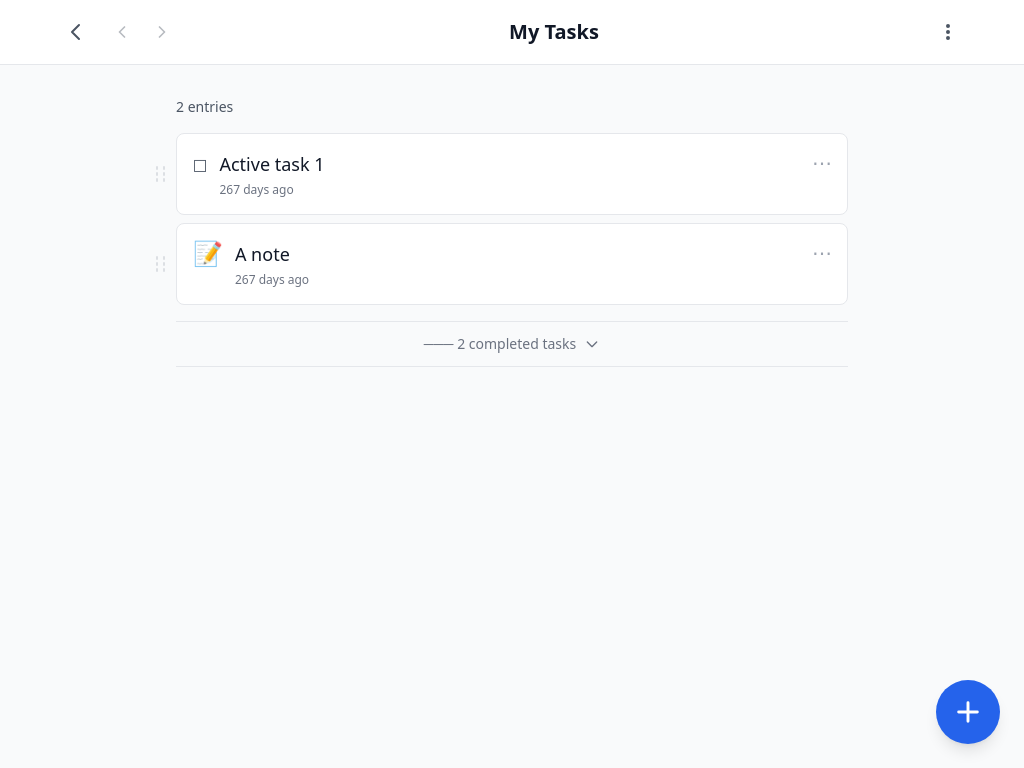
Test: CollectionDetailView - Collapse Completed Tasks Feature › should open settings modal when Settings menu option is clicked
Expected: the link "My Tasks" is shown, top-left (509, 18), bottom-right (599, 45)
Open menu
Click the button named "collection menu": (948, 32) top-left (928, 12), bottom-right (968, 52)
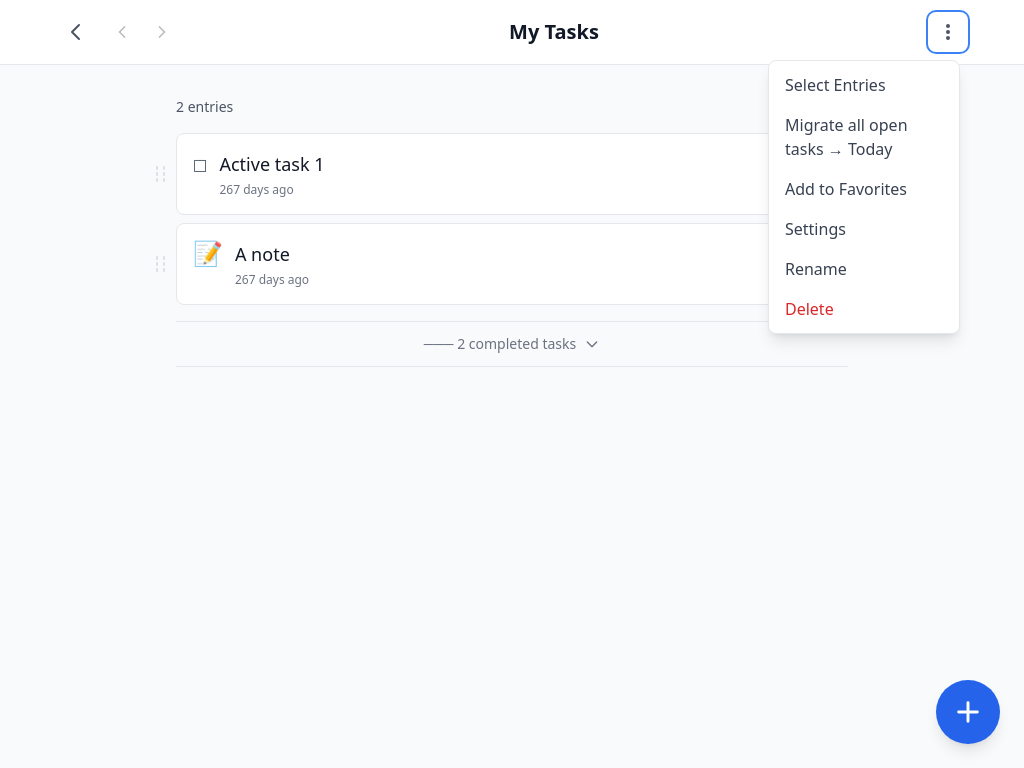
Click settings
Click the button "Settings": (864, 229) top-left (769, 209), bottom-right (959, 249)
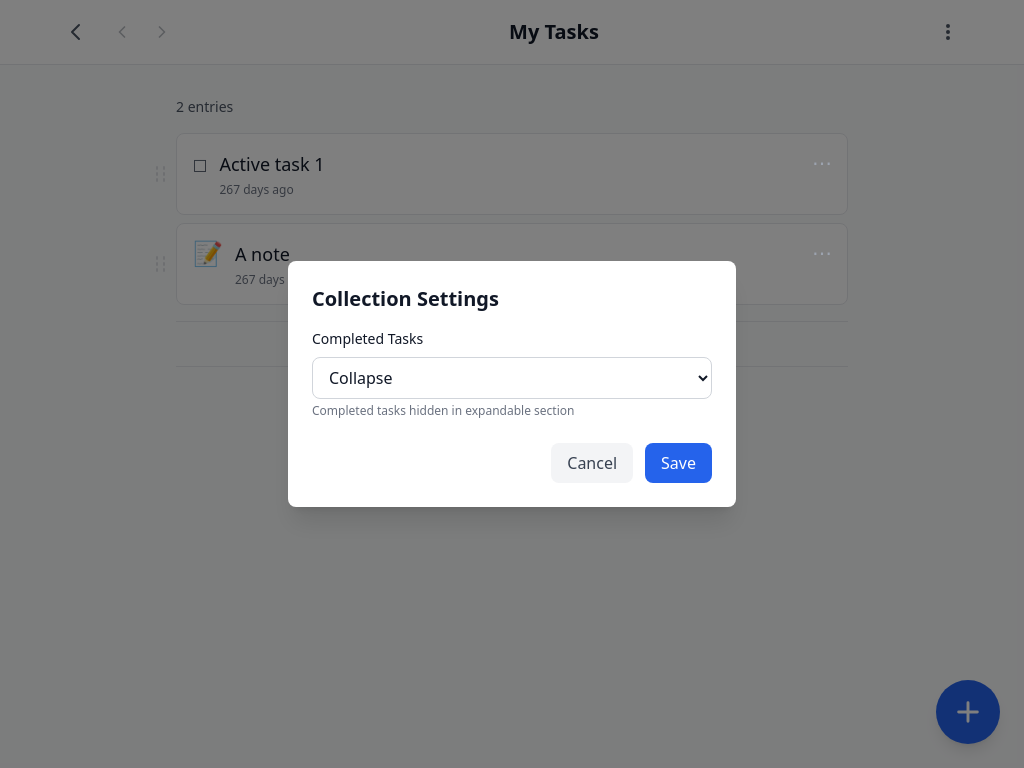
Result: the heading "Collection Settings" is shown at top-left (312, 285), bottom-right (499, 312)
